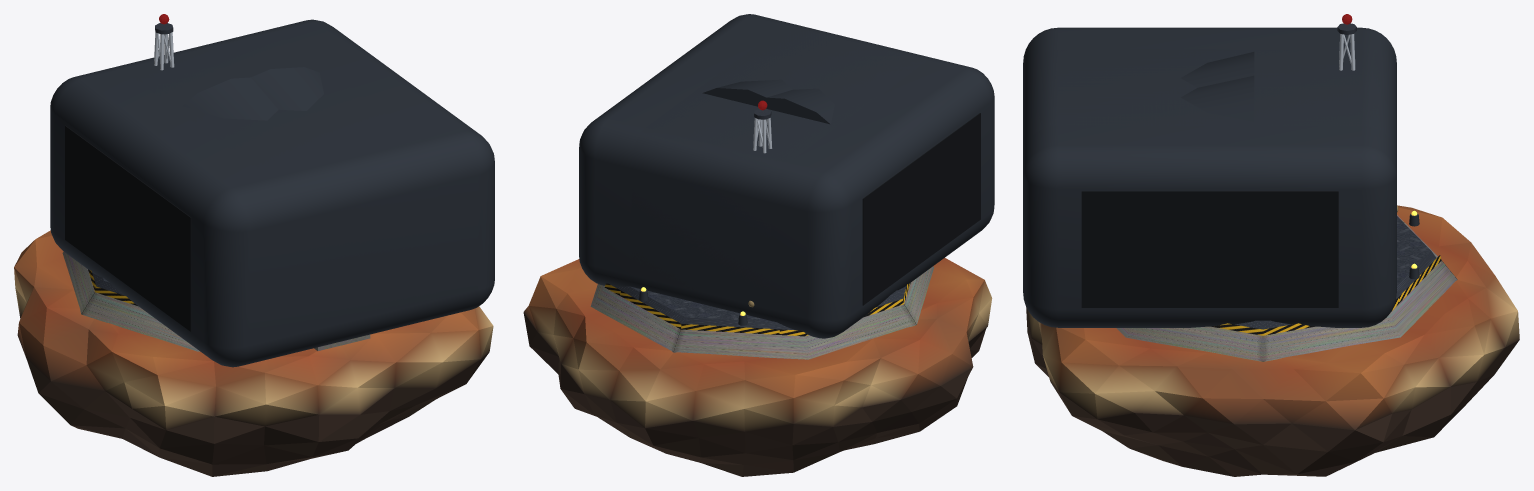
Rendered from howitzer-L100.glb.
3 views of the same model, side by side, from view 1: azimuth 30°, elevation 25°; view 2: azimuth 150°, elevation 25°; view 3: azimuth 270°, elevation 25° (orthographic). The views are drawn at different scales.
Parts seen in each view (by area): view 1: anim:rc (×2), object 1, object 2, anim:yaw; view 2: anim:rc (×2), object 1, object 2, object 4, object 3, anim:yaw; view 3: anim:rc (×2), object 1, object 2, object 4, object 3, anim:yaw.
Boxes of the visible parts, x1,y1,x2,y2 form: anim:rc (×2): (50,19,494,367); object 1: (14,230,493,476); object 2: (62,252,199,351); anim:yaw: (154,14,174,70); anim:rc (×2): (579,14,994,338); object 1: (523,258,992,476); object 2: (590,266,934,359); object 4: (613,285,906,330); object 3: (604,283,910,336); anim:yaw: (753,100,772,153); anim:rc (×2): (1023,27,1396,327); object 1: (1026,205,1519,476); object 2: (1116,215,1457,361); object 4: (1235,216,1436,329); object 3: (1210,255,1441,335); anim:yaw: (1337,14,1356,70).
Size of the model in its own units: 5.61 by 4.87 by 5.61.
Materials: 16 (5 with a texture image).
